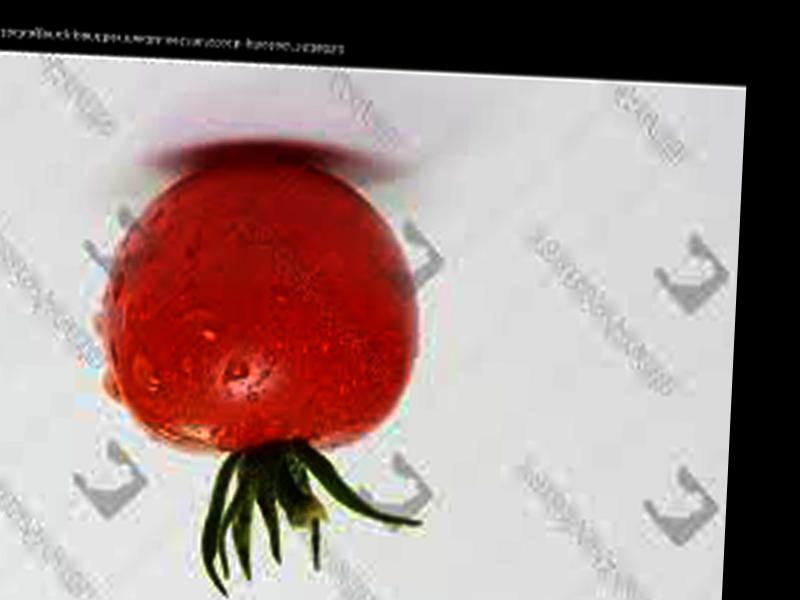Tomato: (99, 151, 426, 456)
